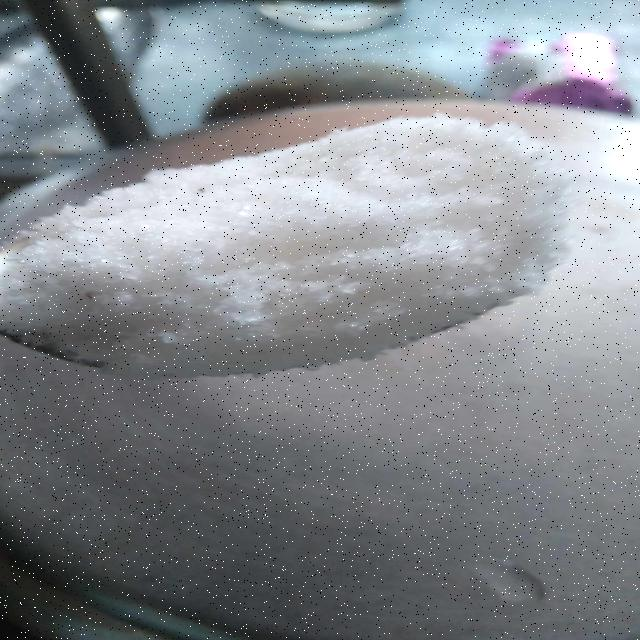Salt: (150, 210, 414, 326)
